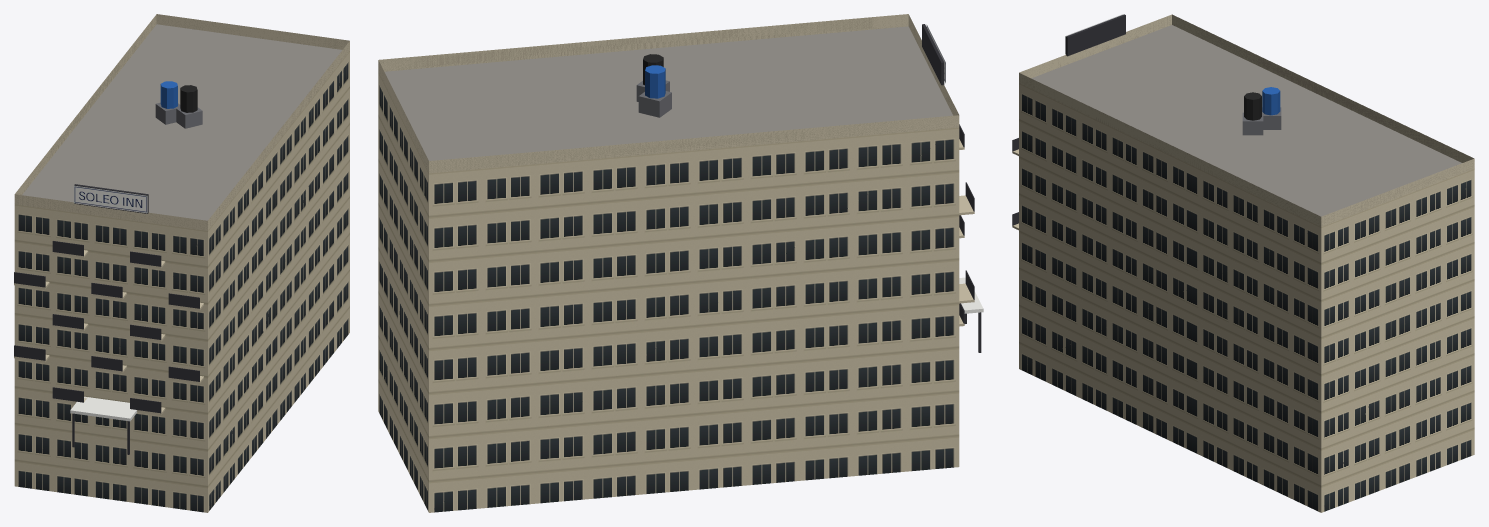
The model's file is hotels-27361-14872.012922f7.glb.
3 renders of one model, left to right at view 1: azimuth 30°, elevation 25°; view 2: azimuth 150°, elevation 25°; view 3: azimuth 270°, elevation 25°, orthographic. The views are drawn at different scales.
Bounding box in the file's own units: 38 × 27.64 × 36.11.
4 materials, 2 textured.
